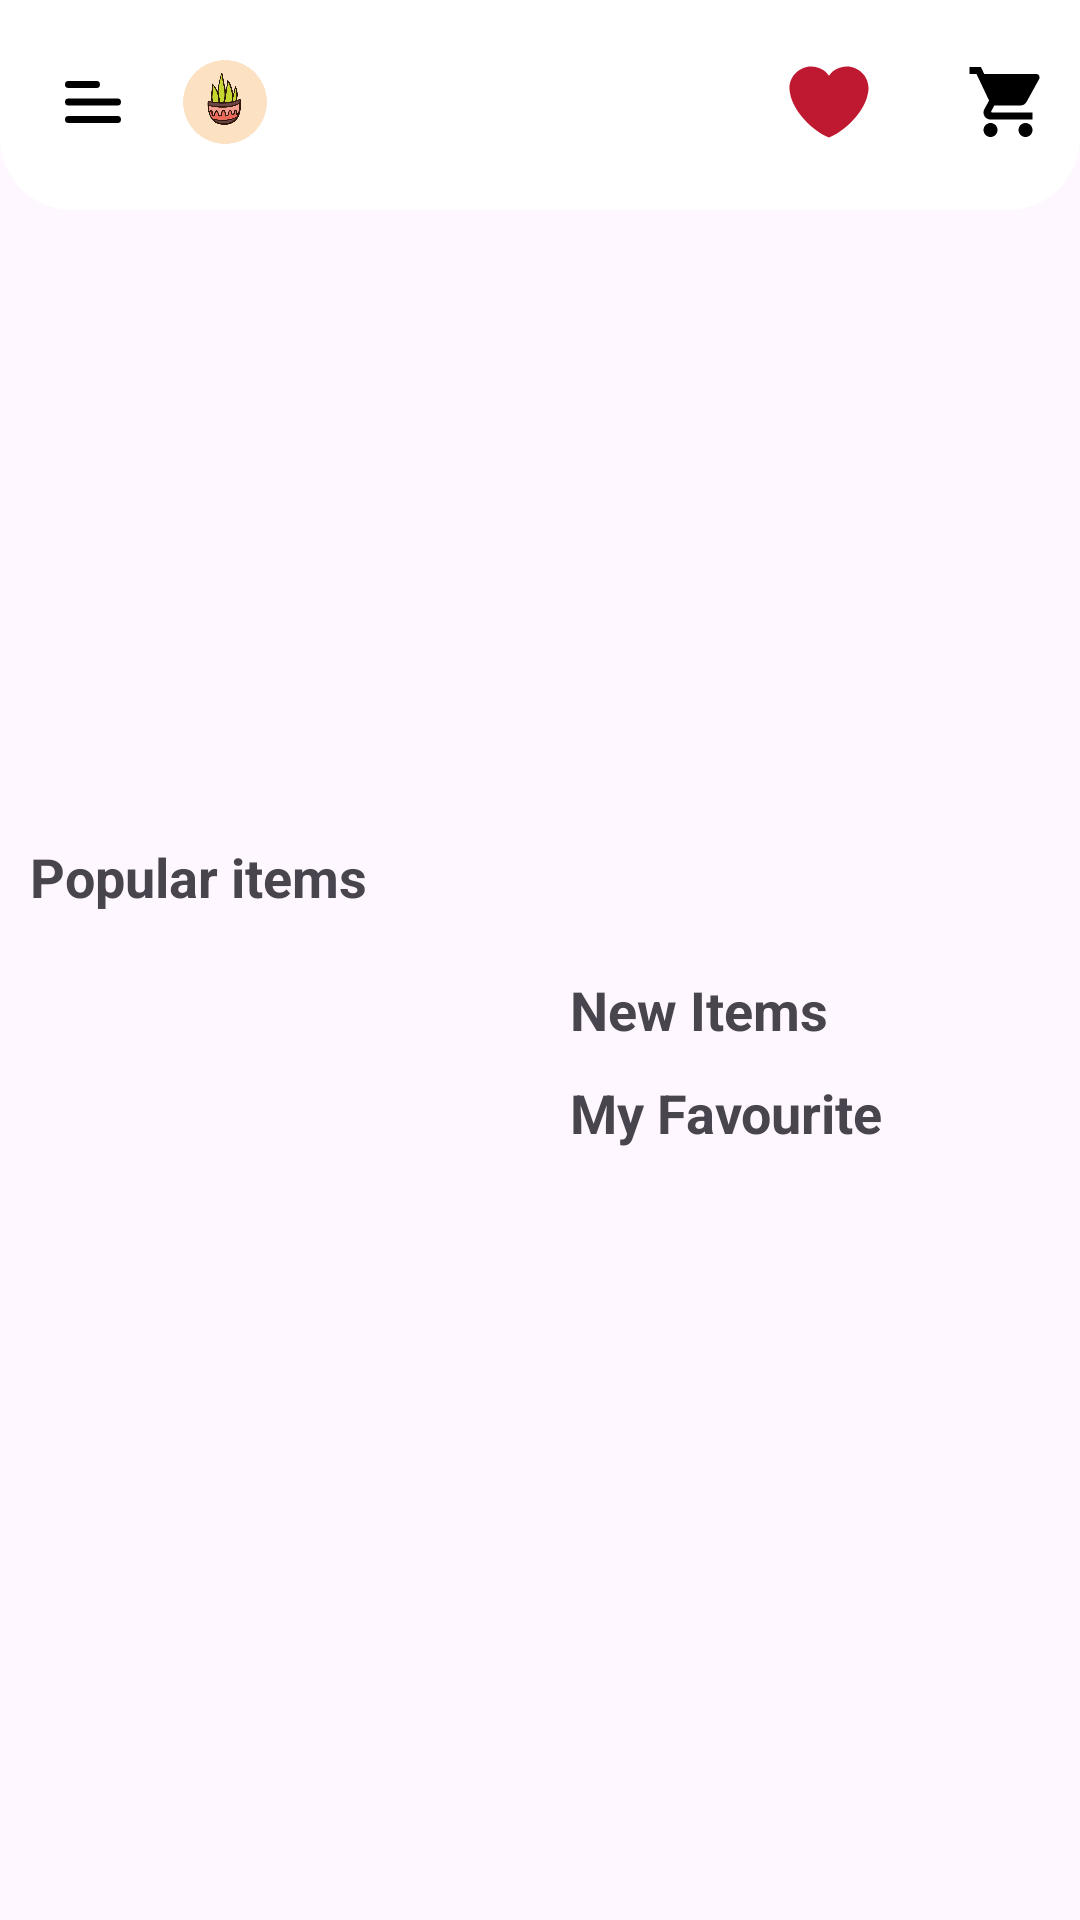

Icon click points for this 1080 x 1920 phone screenshot, format (x,y):
cart: (1004,102)
heart: (829,102)
menu: (93,102)
